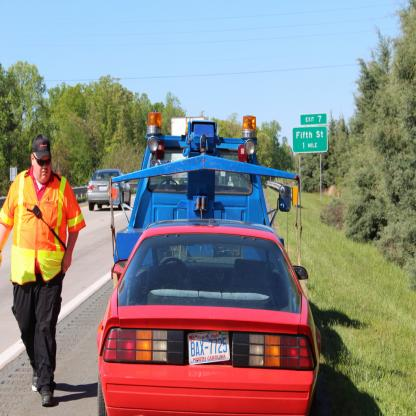Car: (97, 223, 322, 416), (88, 170, 134, 210)
